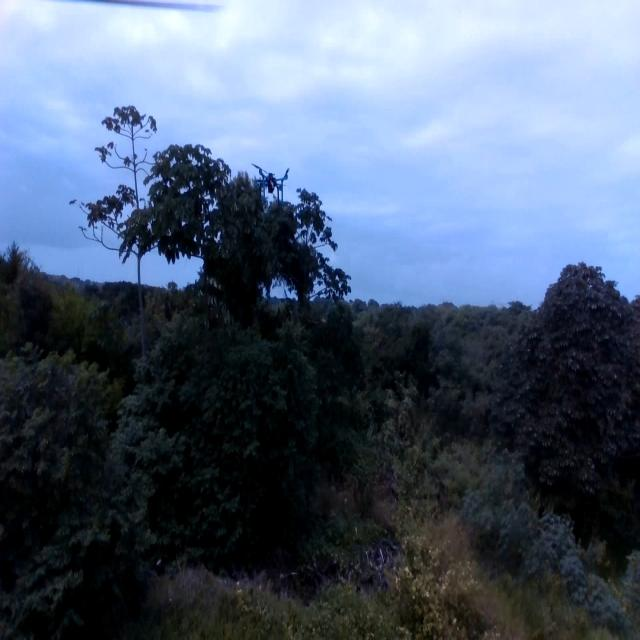-uav-: (247, 152, 300, 224)
